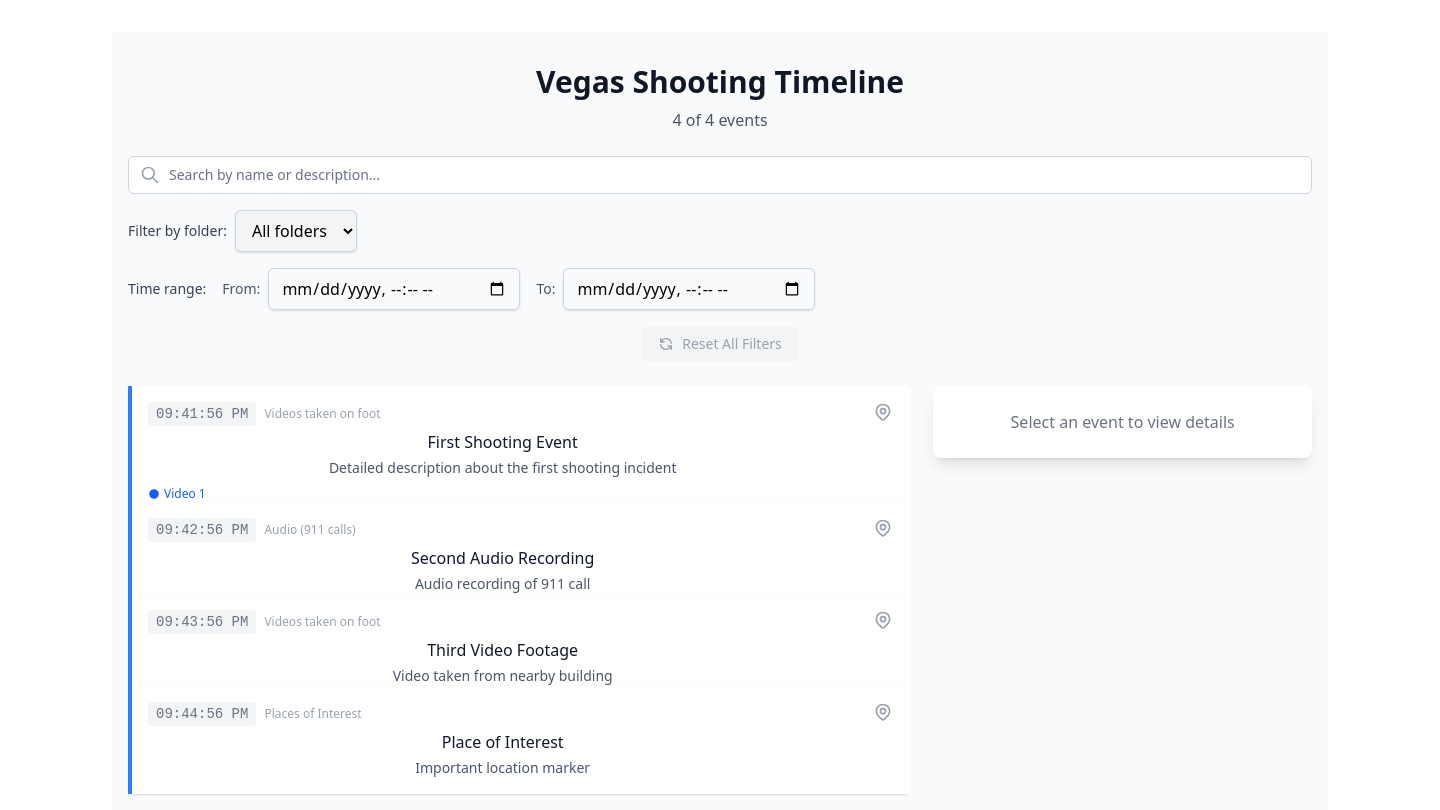
Test: Timeline - Search Filter with Debounce › is case-insensitive when searching
Expected: the heading "First Shooting Event" is shown, [428,431,578,453]
Note: Search with mixed case
Type "VIDEO" into the field with placeholder "Search by name or description..." at (720, 175), box [128,156,1312,194]
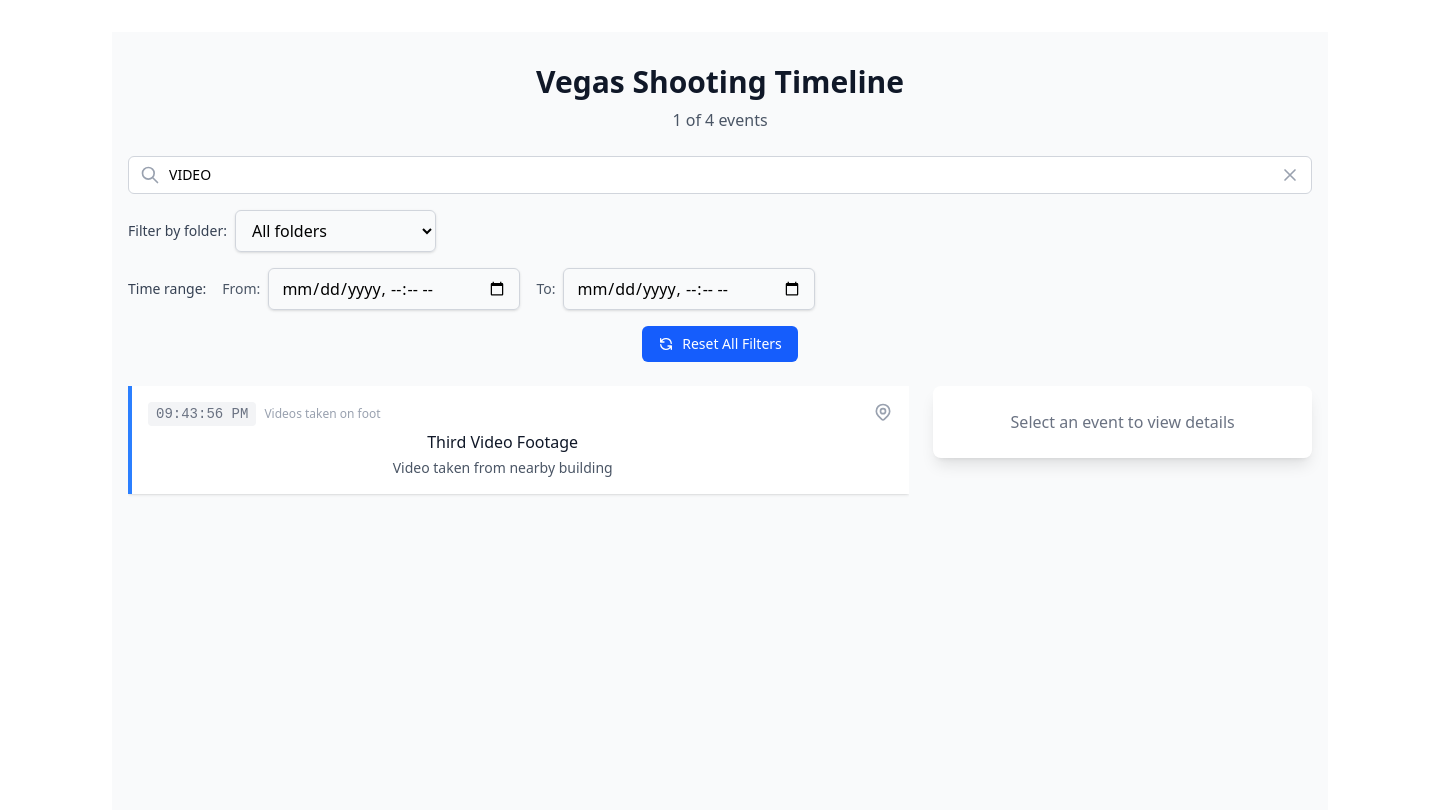
Result: the heading "First Shooting Event" is gone
Result: the heading "Second Audio Recording" is gone
Result: the heading "Place of Interest" is gone
